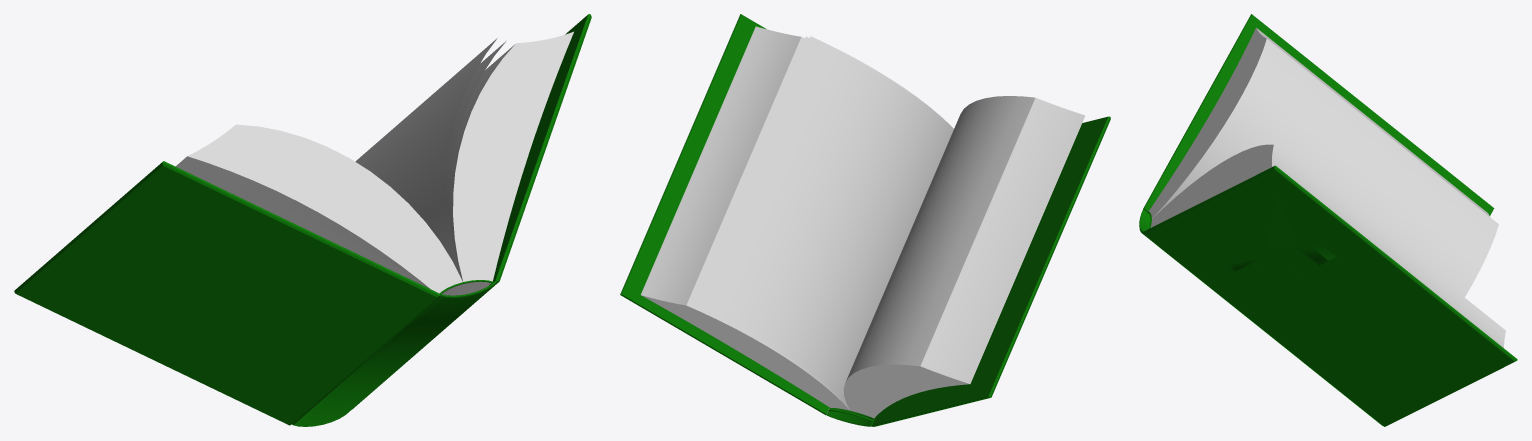
3 views of the same model, side by side, from view 1: azimuth 30°, elevation 25°; view 2: azimuth 150°, elevation 25°; view 3: azimuth 270°, elevation 25° (orthographic). The views are drawn at different scales.
Parts seen in each view (by area): view 1: Group_003, Group_006, Group_001, Group_002; view 2: Group_006, Group_003, Group_002, Group_001; view 3: Group_002, Group_006, Group_003, Group_001.
Part boxes in pixels (left/top/right/bottom): Group_003: left=14, top=161, right=439, bottom=425; Group_006: left=175, top=31, right=573, bottom=295; Group_001: left=292, top=280, right=496, bottom=426; Group_002: left=352, top=14, right=591, bottom=409; Group_006: left=641, top=26, right=1085, bottom=418; Group_003: left=872, top=116, right=1110, bottom=426; Group_002: left=620, top=14, right=829, bottom=414; Group_001: left=826, top=408, right=875, bottom=426; Group_002: left=1143, top=165, right=1517, bottom=426; Group_006: left=1148, top=27, right=1505, bottom=347; Group_003: left=1143, top=14, right=1494, bottom=215; Group_001: left=1139, top=209, right=1383, bottom=426.
Bounding box in the file's own units: 3.42 × 3.02 × 3.1.
